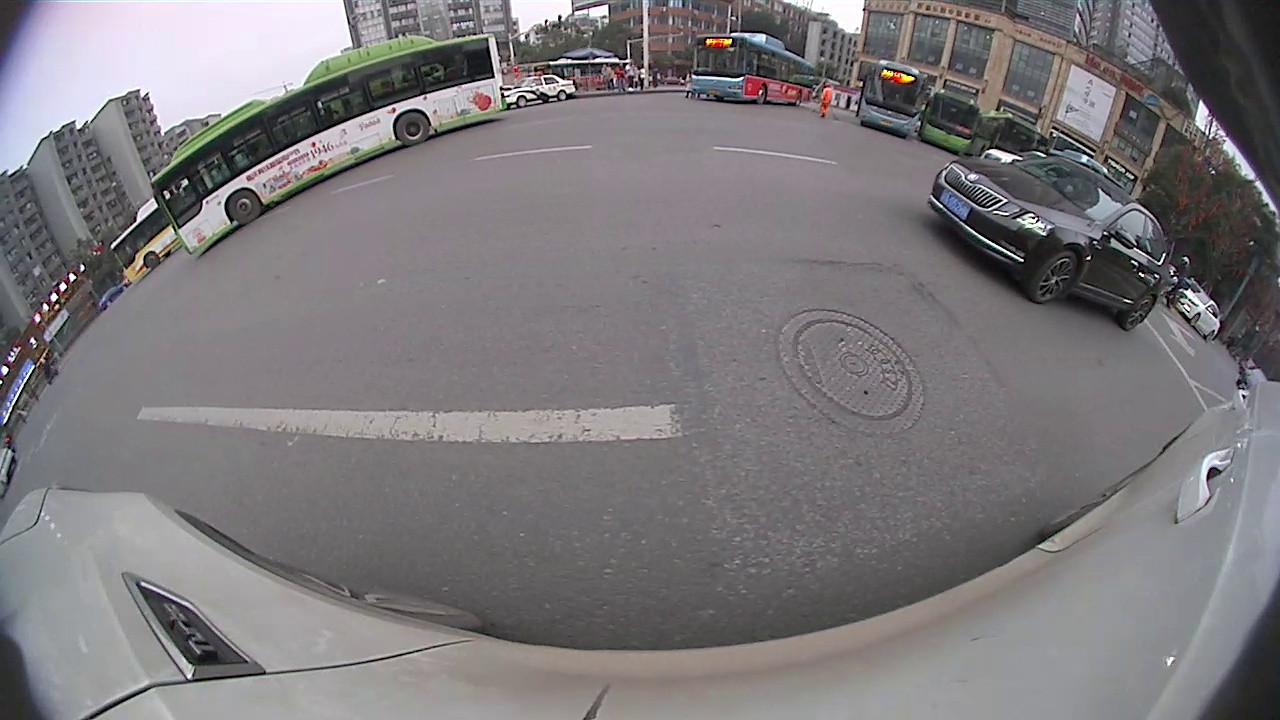bus: (149, 30, 505, 260), (687, 34, 816, 110), (110, 196, 183, 287), (856, 59, 930, 138), (920, 89, 980, 157), (979, 108, 1043, 156)
car: (926, 153, 1172, 333), (1175, 277, 1222, 343), (500, 72, 580, 108)
front: (1030, 247, 1080, 308), (218, 187, 266, 227)
person: (820, 81, 831, 118)
rear: (1120, 292, 1158, 335), (390, 110, 432, 147)
